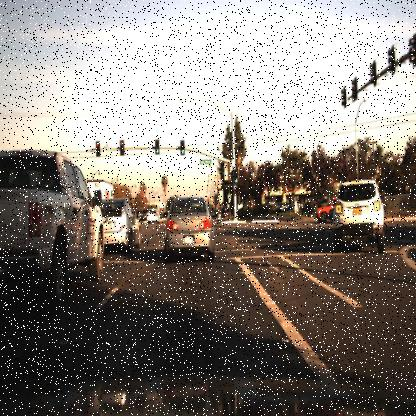car: (0, 123, 105, 345), (152, 182, 223, 265), (328, 172, 390, 258), (94, 196, 142, 250), (10, 186, 40, 228), (314, 192, 337, 223), (316, 195, 338, 224), (146, 203, 164, 234)
trafficLight: (117, 136, 125, 162), (94, 140, 102, 160), (154, 136, 162, 156)
trafficLight-Green: (176, 133, 190, 164), (232, 166, 240, 192), (152, 136, 160, 160), (232, 167, 240, 186)
trafficLight-Red: (179, 135, 186, 156)
trafficLight-RedLeft: (92, 138, 102, 164)
